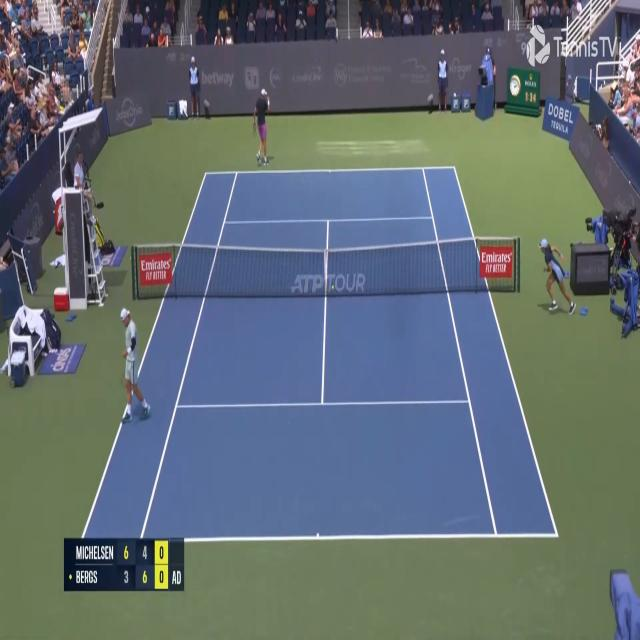tennis-player: (118, 307, 152, 425), (251, 85, 270, 168)
